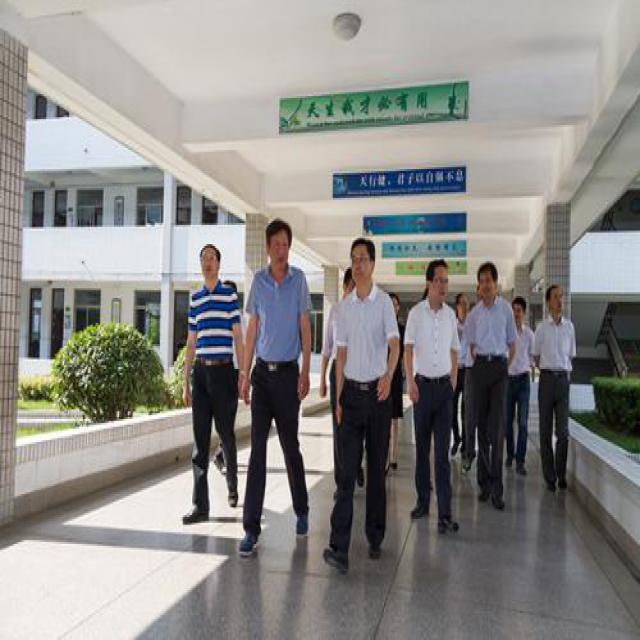head: (262, 214, 296, 270), (348, 230, 380, 289), (422, 253, 450, 305), (193, 236, 220, 286), (476, 257, 503, 301), (542, 280, 568, 322), (508, 291, 527, 332), (454, 289, 472, 328)
person: (233, 210, 323, 568), (313, 230, 405, 578), (170, 239, 250, 533), (399, 250, 474, 554), (454, 253, 522, 523), (534, 281, 585, 501)
